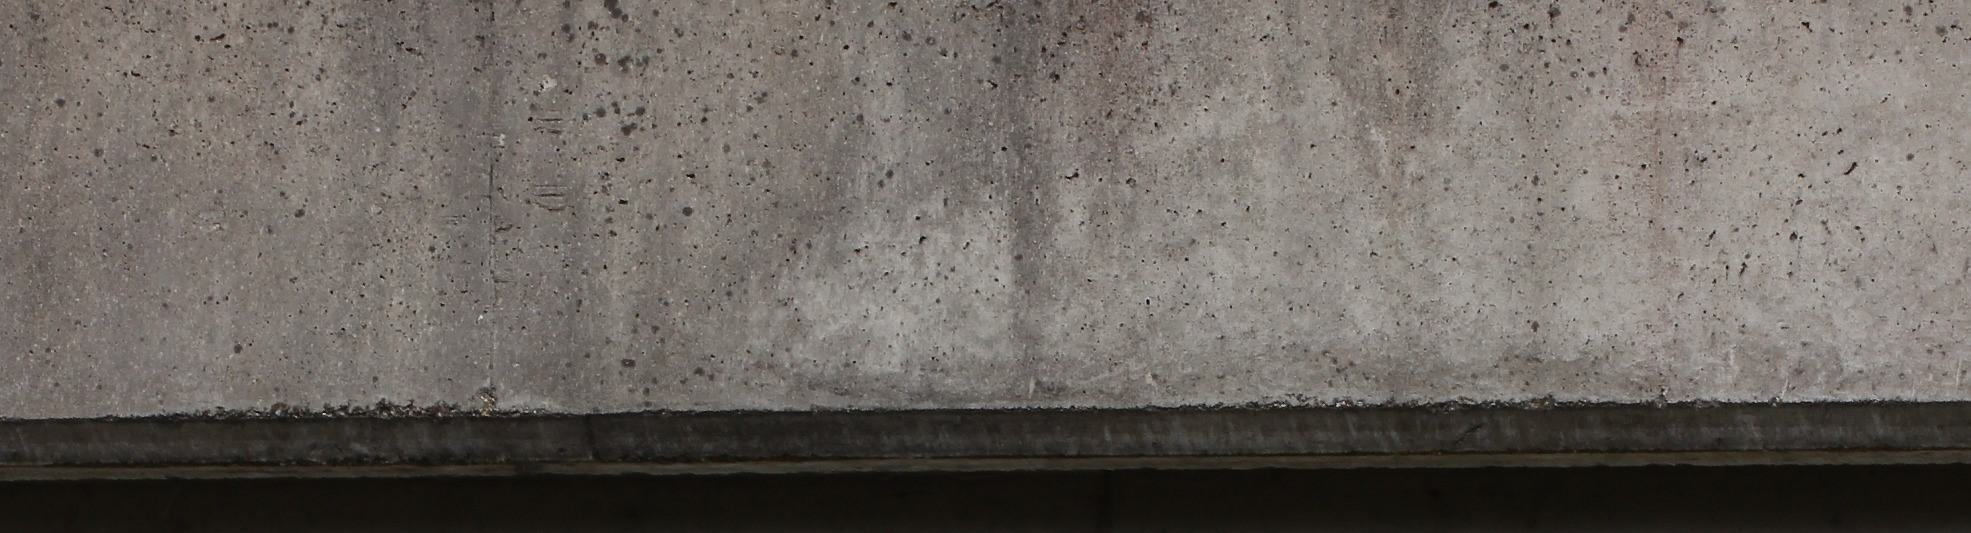Spalling: (1, 1, 1971, 414)
